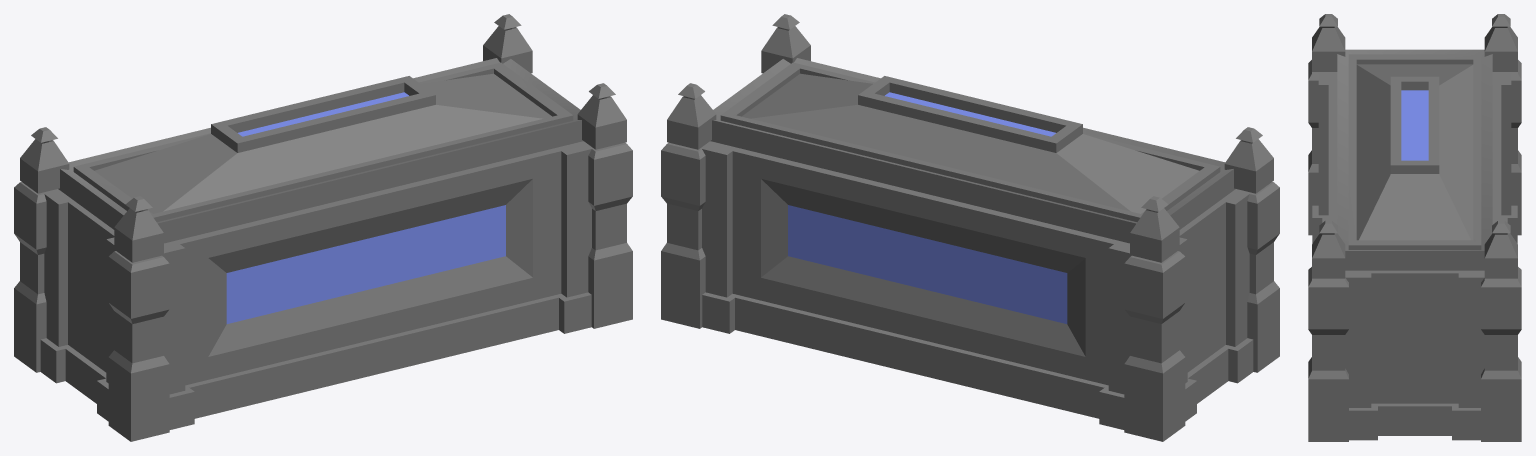
File: SM_Grave_11.fbx
The picture shows the model from 3 angles, left to right: view 1: azimuth 30°, elevation 25°; view 2: azimuth 150°, elevation 25°; view 3: azimuth 270°, elevation 25°; orthographic projection. The views are drawn at different scales.
Visible parts, largest first — view 1: Box021; view 2: Box021; view 3: Box021.
Boxes of the visible parts, x1,y1,x2,y2 form: Box021: (14,14,632,441); Box021: (661,14,1279,441); Box021: (1308,14,1521,441).
Bounding box in the file's own units: 276 × 121 × 111.
